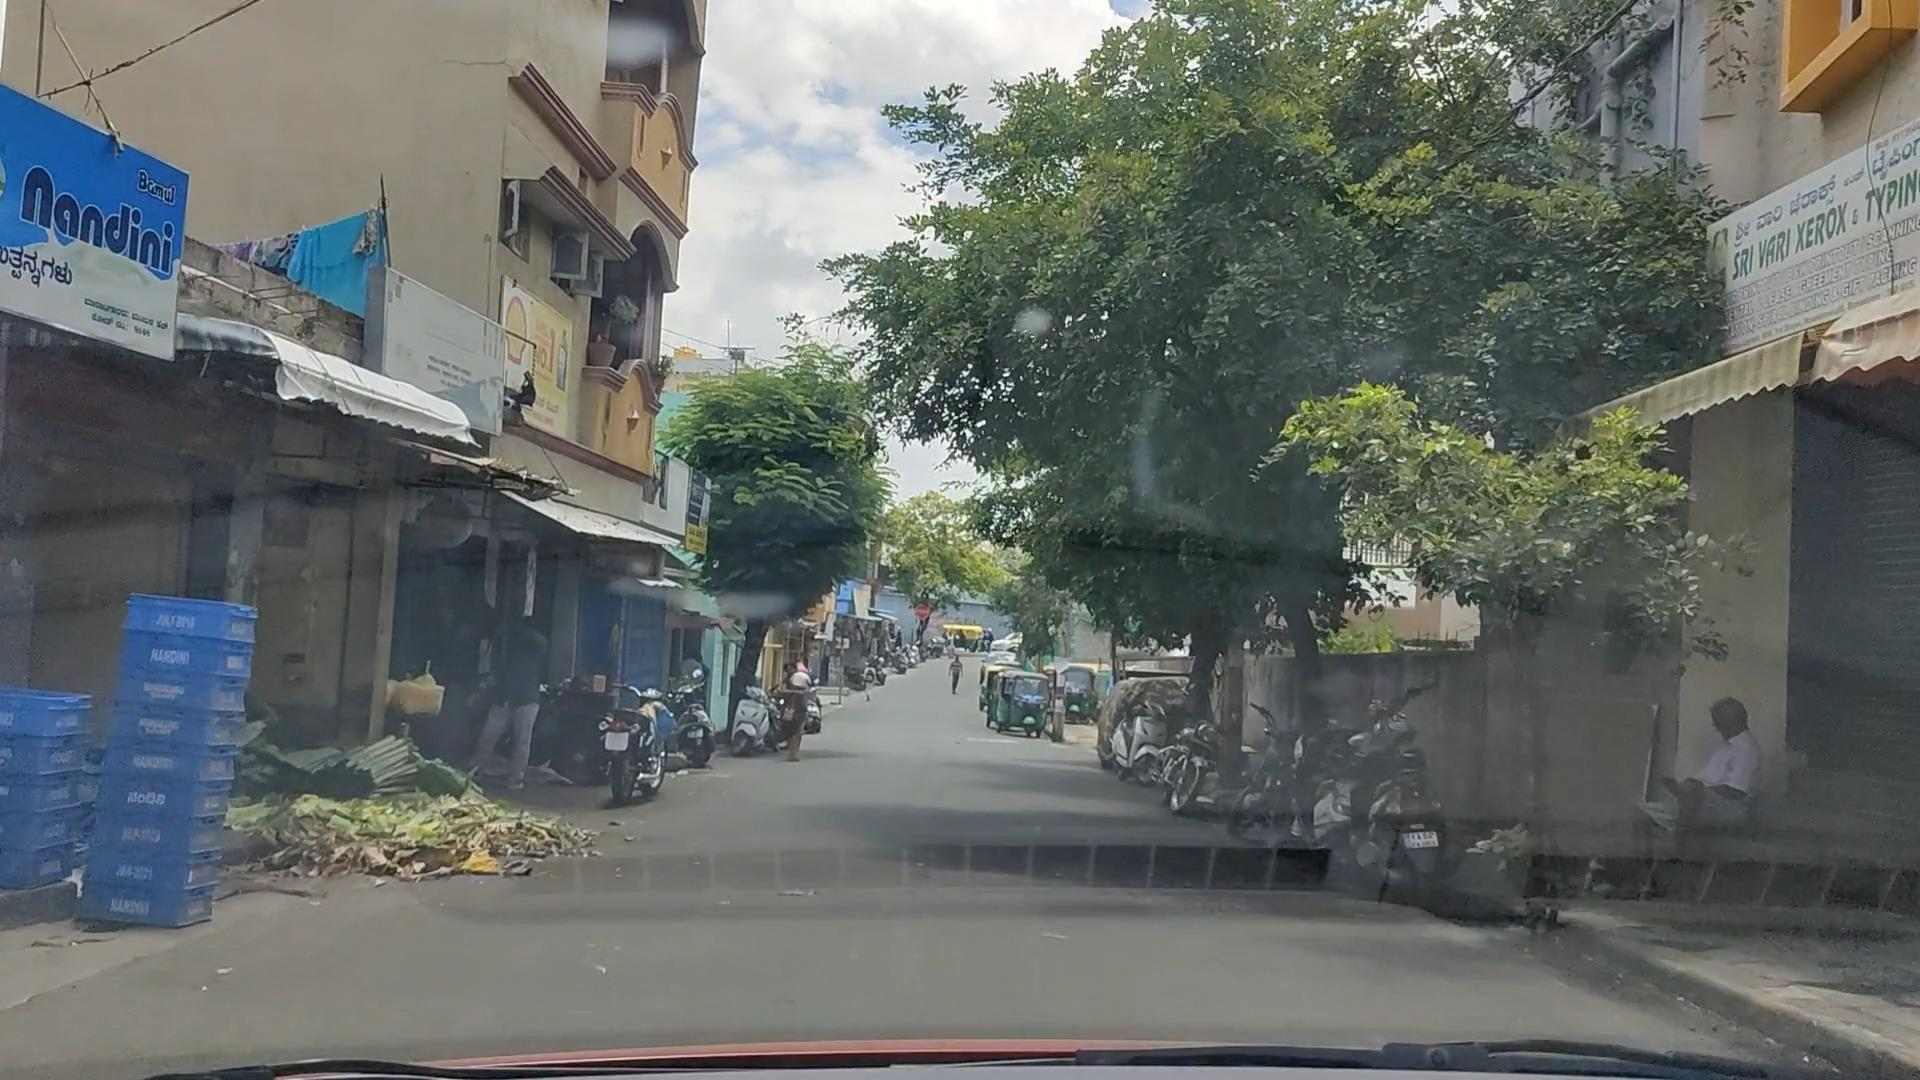LMV: (595, 676, 662, 794), (975, 669, 1050, 737)
